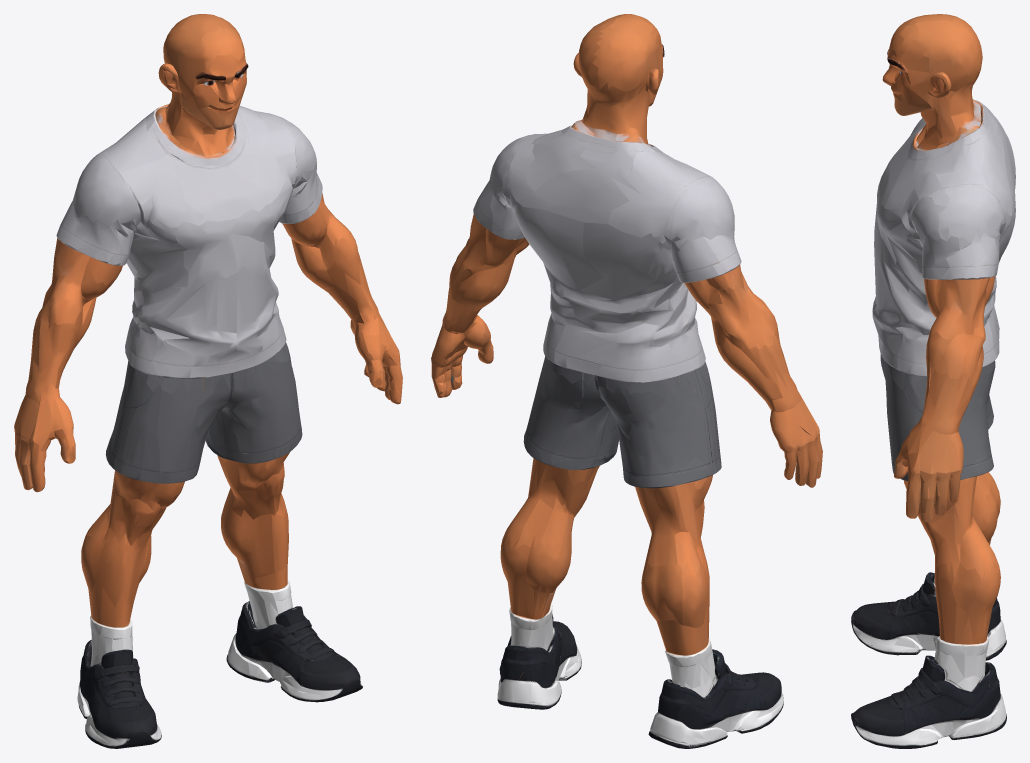
The model's file is body.glb.
The picture shows the model from 3 angles, left to right: view 1: azimuth 30°, elevation 25°; view 2: azimuth 150°, elevation 25°; view 3: azimuth 270°, elevation 25°; orthographic projection.
Visible parts, largest first — view 1: Mesh_0; view 2: Mesh_0; view 3: Mesh_0.
Part boxes in pixels (left/top/right/bottom): Mesh_0: left=14, top=14, right=402, bottom=748; Mesh_0: left=431, top=14, right=822, bottom=748; Mesh_0: left=851, top=14, right=1015, bottom=748.
Size of the model in its own units: 1.11 by 1.9 by 0.4231.
1 material, 1 textured.
